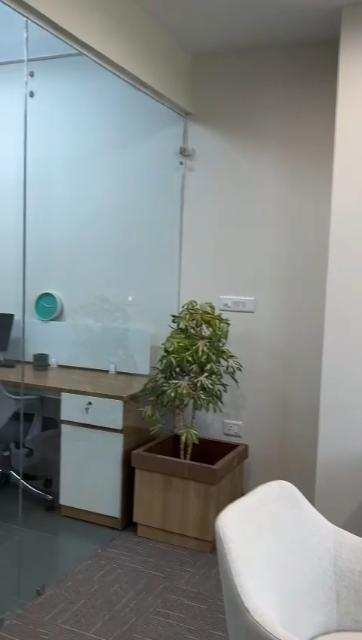floor: (6, 519, 223, 637)
object: (216, 470, 362, 640), (0, 362, 134, 516), (136, 316, 238, 516)
wall: (250, 1, 361, 473)
